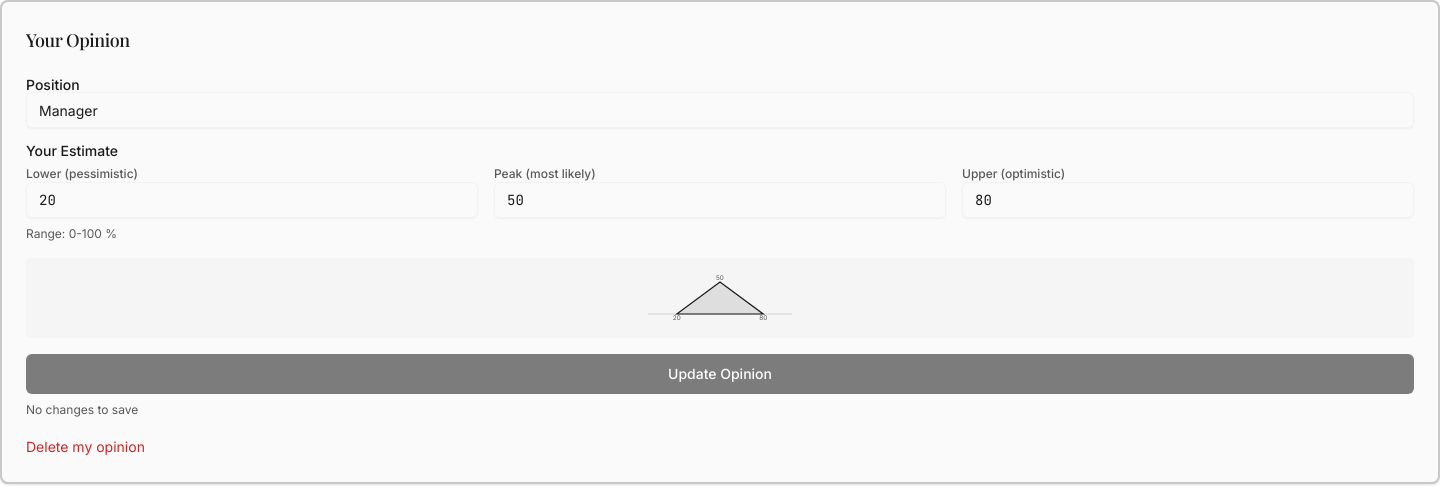
Test case: OpinionForm - Save/Update Button › enables update button after editing a value
This screenshot has width=1440, height=502.
Replace the text in the number field labelled "Peak (most likely)" with "55": (720, 200) [494,182,946,218]
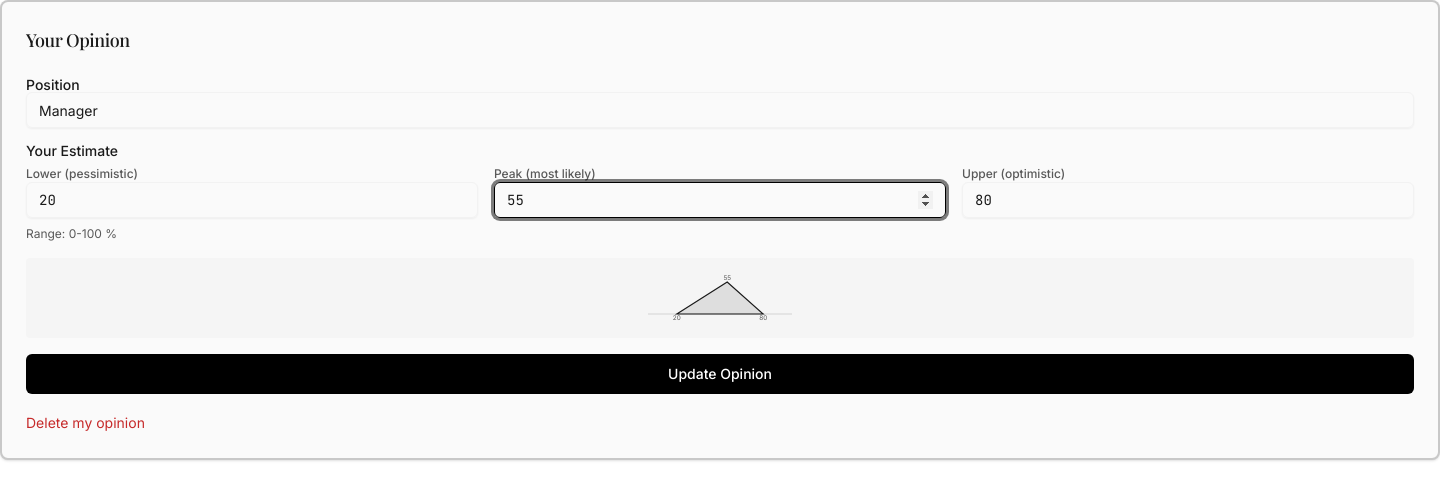
Expected: the button "Update Opinion" is enabled, [26,354,1414,394]
